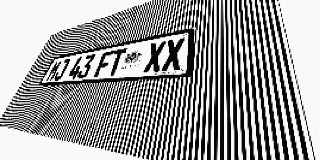3: (76, 54, 96, 79)
4: (67, 56, 86, 80)
F: (94, 50, 114, 77)
J: (52, 59, 71, 81)
M: (45, 60, 63, 81)
T: (106, 48, 127, 76)
X: (161, 37, 185, 71), (143, 41, 166, 73)
